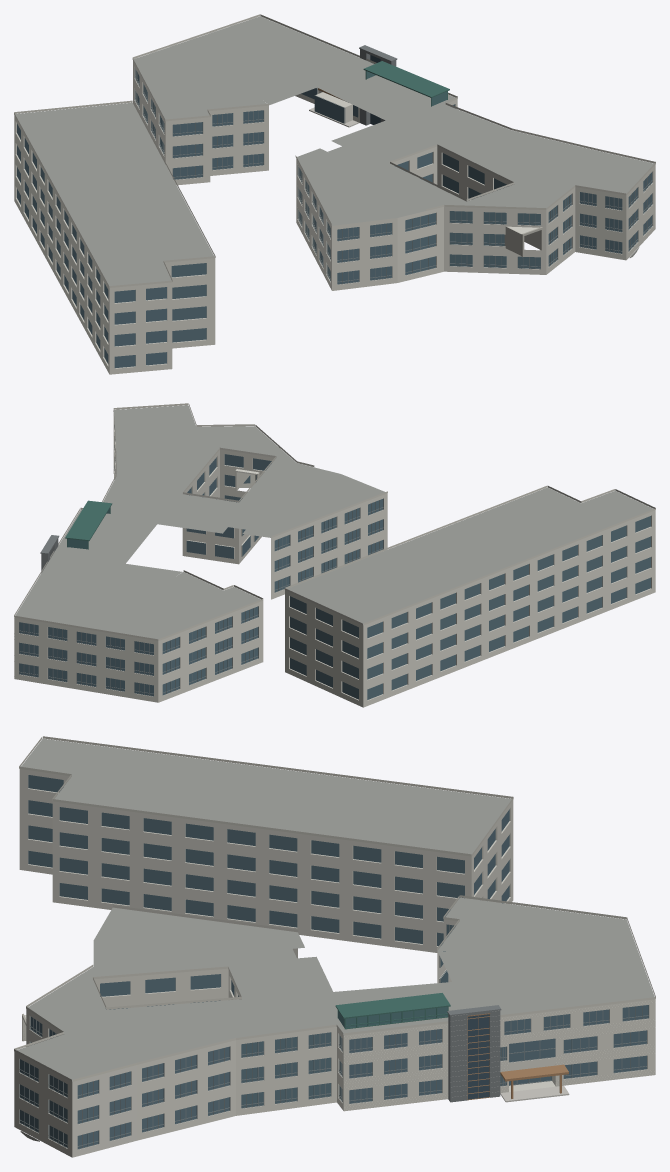
3 views of the same model, one above another, from view 1: azimuth 30°, elevation 25°; view 2: azimuth 150°, elevation 25°; view 3: azimuth 270°, elevation 25° (orthographic). The views are drawn at different scales.
Visible parts, largest first — view 1: main__roof, main__wall, main__glass, main__frame, main__trim, main__roofFrame, main__passageLining, main__coreStone; view 2: main__roof, main__wall, main__glass, main__trim, main__frame, main__roofFrame; view 3: main__roof, main__wall, main__glass, main__trim, main__frame, main__coreStone, main__roofFrame, main__coreGlass, main__accent, main__roofGlass, main__threshold.
Part boxes in pixels (box(x1,y1,x2,y2)): main__roof: box(15, 16, 653, 287); main__wall: box(14, 61, 655, 374); main__glass: box(17, 69, 651, 368); main__frame: box(134, 67, 652, 284); main__trim: box(14, 14, 655, 287); main__roofFrame: box(363, 61, 449, 106); main__passageLining: box(504, 226, 541, 255); main__coreStone: box(359, 45, 397, 125); main__roof: box(15, 405, 653, 640); main__wall: box(14, 412, 655, 707); main__glass: box(19, 454, 650, 699); main__trim: box(14, 403, 655, 640); main__frame: box(19, 425, 383, 696); main__roofFrame: box(65, 500, 112, 549); main__roof: box(17, 738, 654, 1081); main__wall: box(14, 769, 655, 1157); main__glass: box(20, 775, 648, 1148); main__trim: box(14, 736, 655, 1109); main__frame: box(19, 924, 648, 1149); main__coreStone: box(447, 1005, 501, 1102); main__roofFrame: box(335, 993, 450, 1029); main__coreGlass: box(468, 1014, 489, 1099); main__accent: box(467, 1013, 568, 1100); main__roofGlass: box(338, 1007, 447, 1028); main__threshold: box(500, 1085, 569, 1102).
Size of the model in its own units: 97.09 by 15.26 by 82.77.
